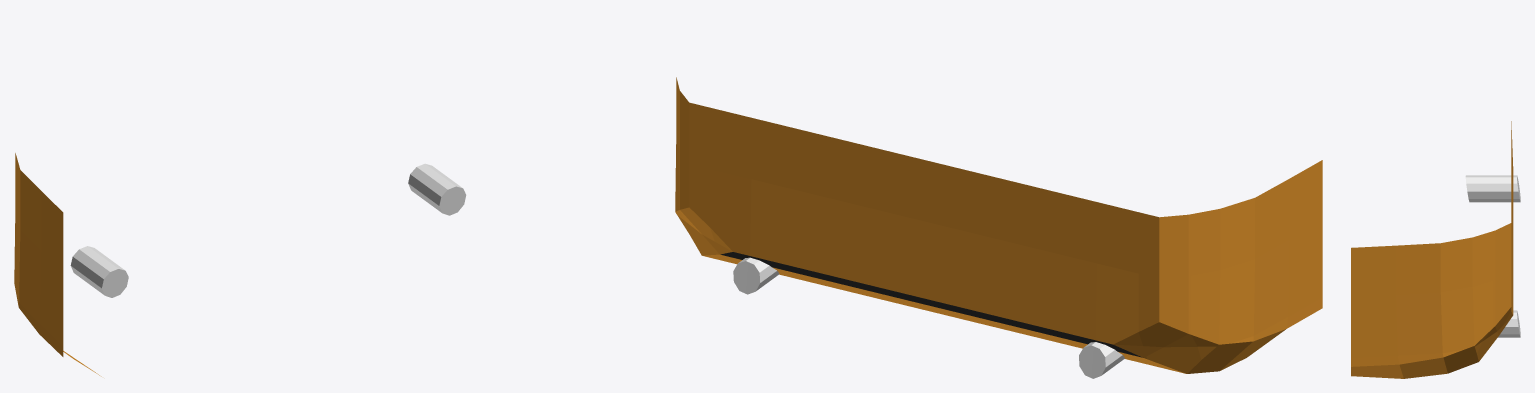
File: protoCoupe_rearBumper_hayate.glb
3 views of the same model, side by side, from view 1: azimuth 30°, elevation 25°; view 2: azimuth 150°, elevation 25°; view 3: azimuth 270°, elevation 25° (orthographic). The views are drawn at different scales.
Parts seen in each view (by area): view 1: rearBumper_hayate; view 2: rearBumper_hayate; view 3: rearBumper_hayate.
Boxes of the visible parts, x1=… form: rearBumper_hayate: x1=14, y1=153, x2=466, y2=376; rearBumper_hayate: x1=675, y1=77, x2=1322, y2=378; rearBumper_hayate: x1=1351, y1=121, x2=1520, y2=378.
Bounding box in the file's own units: 1.73 × 0.5101 × 0.5302.
